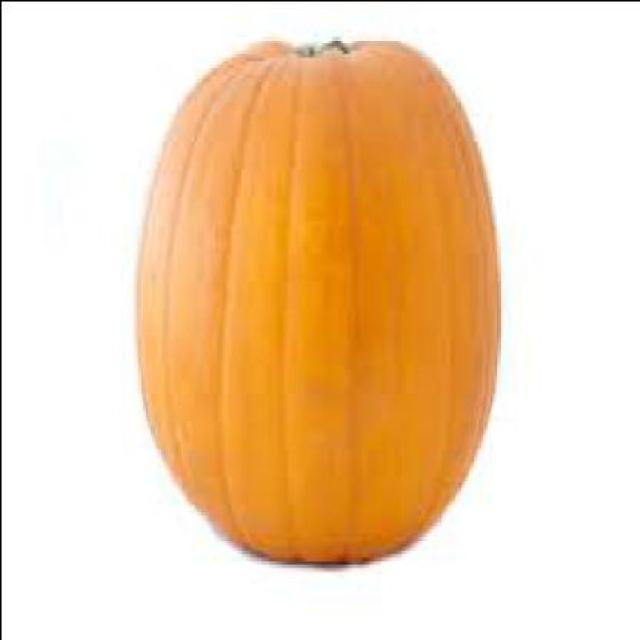BIODEGRADABLE: (137, 31, 503, 560)
